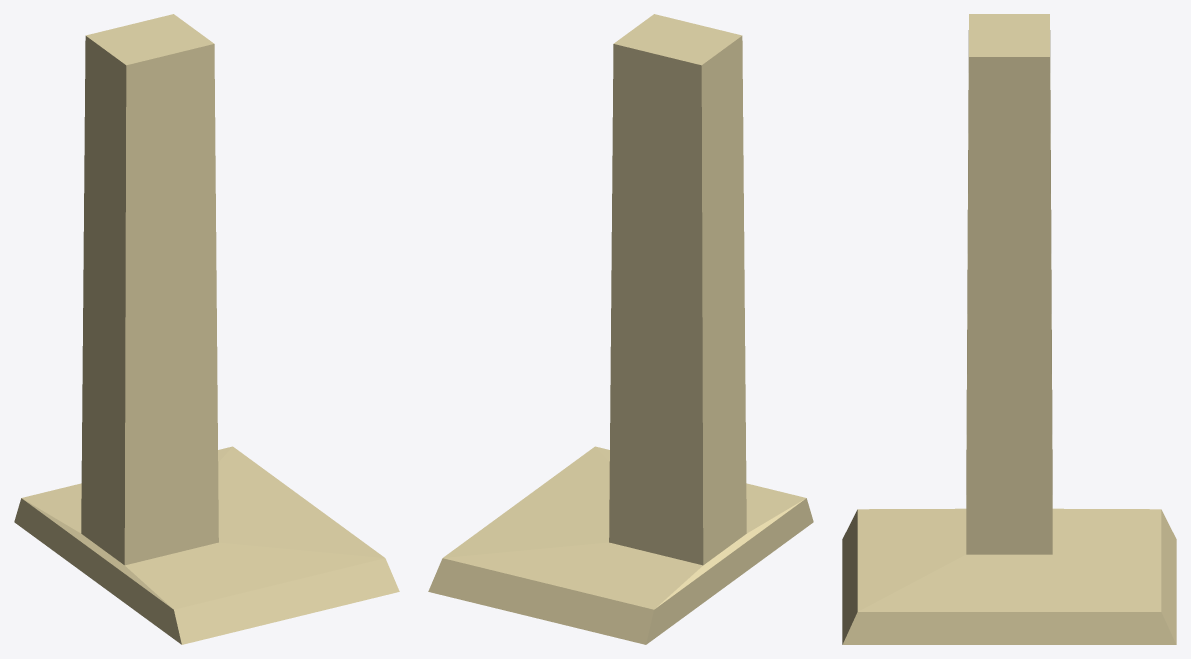
File: SM_KitchenHood_01.fbx
3 views of the same model, side by side, from view 1: azimuth 30°, elevation 25°; view 2: azimuth 150°, elevation 25°; view 3: azimuth 270°, elevation 25° (orthographic).
Parts seen in each view (by area): view 1: SM_KitchenHood_01; view 2: SM_KitchenHood_01; view 3: SM_KitchenHood_01.
Part boxes in pixels (<box>): SM_KitchenHood_01: <box>14,14,399,644</box>; SM_KitchenHood_01: <box>428,14,813,644</box>; SM_KitchenHood_01: <box>842,14,1176,644</box>.
Bounding box in the file's own units: 0.7516 × 1 × 1.75.
